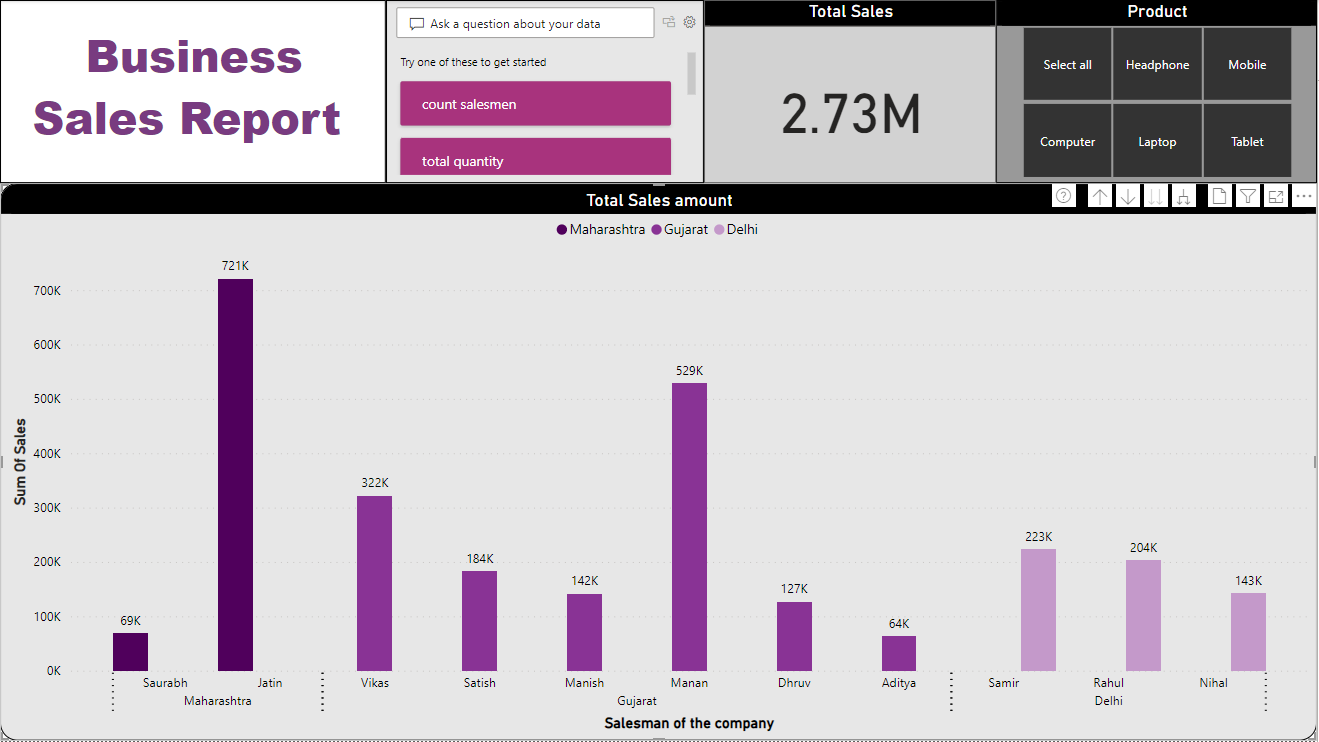

The page's visual inventory and layout, read from the dashboard file:
{"tool":"powerbi","page":{"name":"Page 1","canvas":[1280,720],"ordinal":0},"visuals":[{"type":"clusteredColumnChart","title":"Total Sales amount ","fields":{"Y":["Sales Data.Sales Amount"],"Category":["Sales Data.State","Sales Data.Salesman","Sales Data.Date of Sale.Variation.Date Hierarchy.Year","Sales Data.Date of Sale.Variation.Date Hierarchy.Quarter","Sales Data.Date of Sale.Variation.Date Hierarchy.Month"],"Series":["Sales Data.State"]},"box":[0,178.2,1280.4,541.8],"z":0},{"type":"slicer","title":"Product","fields":{"Values":["Sales Data.Product"]},"box":[968,0,312,177.9],"z":1000},{"type":"card","title":"Total Sales","fields":{"Values":["Sales Data.Sales Amount"]},"box":[684.2,0,283.8,177.9],"z":2000},{"type":"textbox","box":[0,0,160.4,29.2],"z":3000},{"type":"textbox","box":[0,0,375.2,177.9],"z":4000},{"type":"qnaVisual","box":[375.2,0,309.1,177.9],"z":5000}]}

Visuals, with their boxes on the page's 1280x720 design canvas (x1, y1, x2, y2). These are canvas units, not pixel positions in the 1319x742 screenshot, which may show the page scaled, cropped or inside an application window:
"Total Sales amount " clusteredColumnChart: 0,178,1280,720
"Product" slicer: 968,0,1280,178
"Total Sales" card: 684,0,968,178
textbox: 0,0,160,29
textbox: 0,0,375,178
qnaVisual: 375,0,684,178
